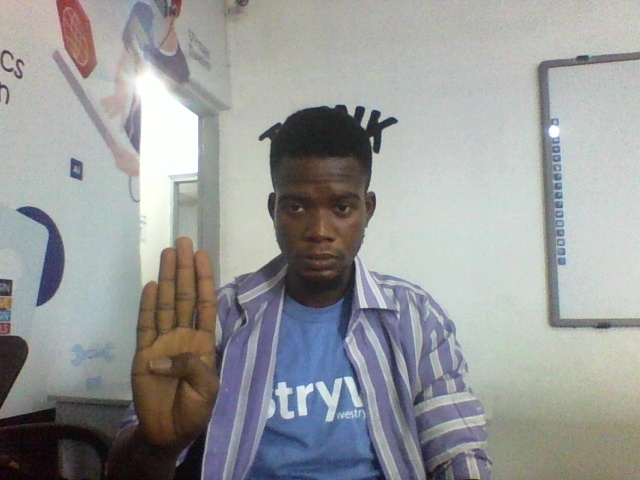hello: (128, 232, 224, 449)
